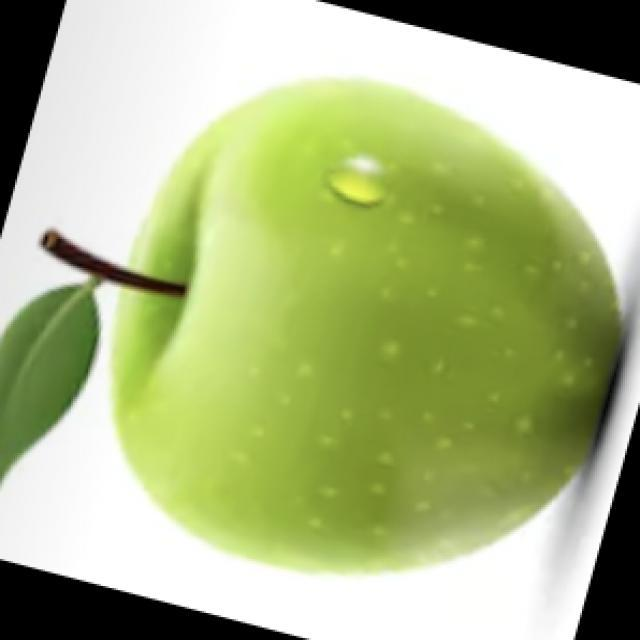Fresh Apple: (88, 88, 640, 568)
